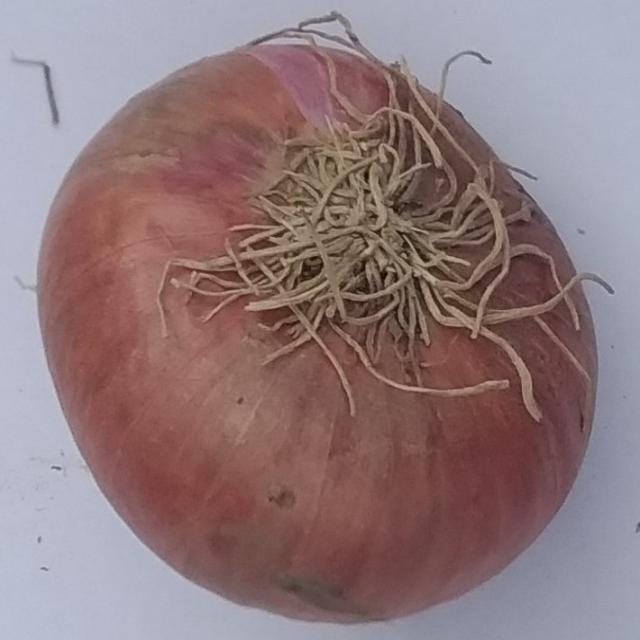onion: (36, 8, 613, 626)
